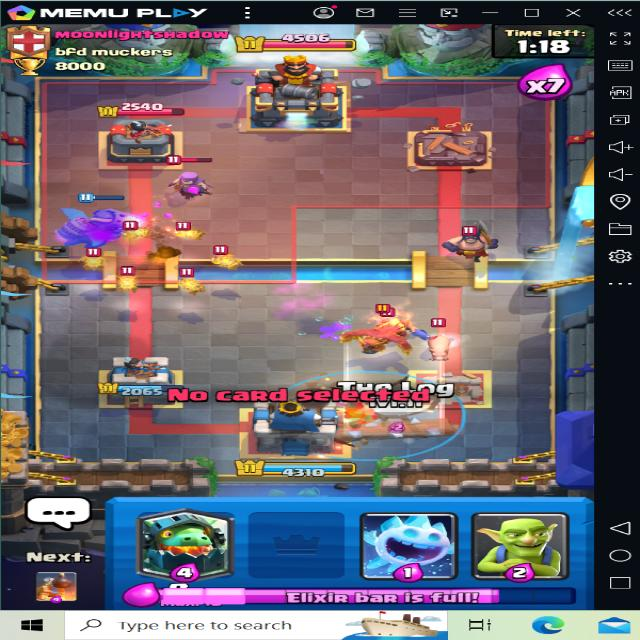Executioner: (442, 223, 499, 263)
Lumberjack: (330, 389, 392, 422)
Motherwitch: (157, 156, 222, 205)
Pheonix: (338, 314, 418, 359)
Pig: (420, 319, 455, 362)
